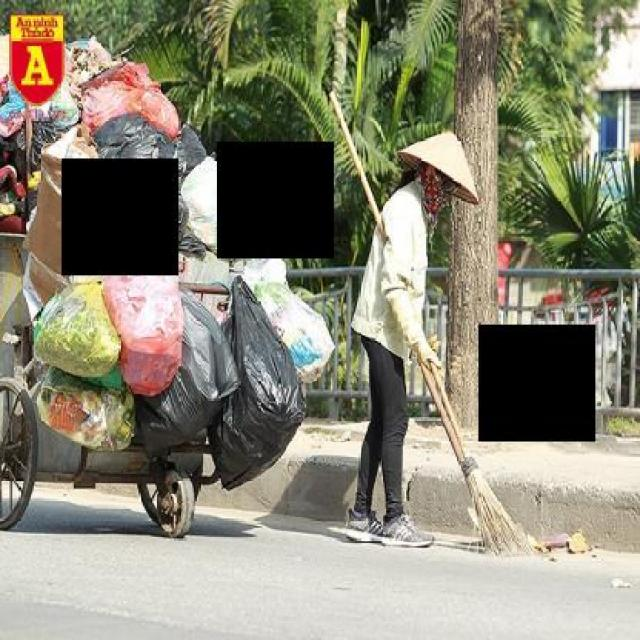plastic bag: (0, 34, 342, 546), (186, 254, 326, 460), (105, 237, 183, 400), (250, 264, 338, 378), (89, 104, 183, 204), (32, 281, 122, 377), (177, 148, 248, 268)
